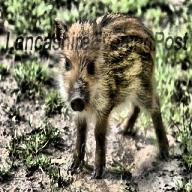boar: (53, 11, 169, 178)
